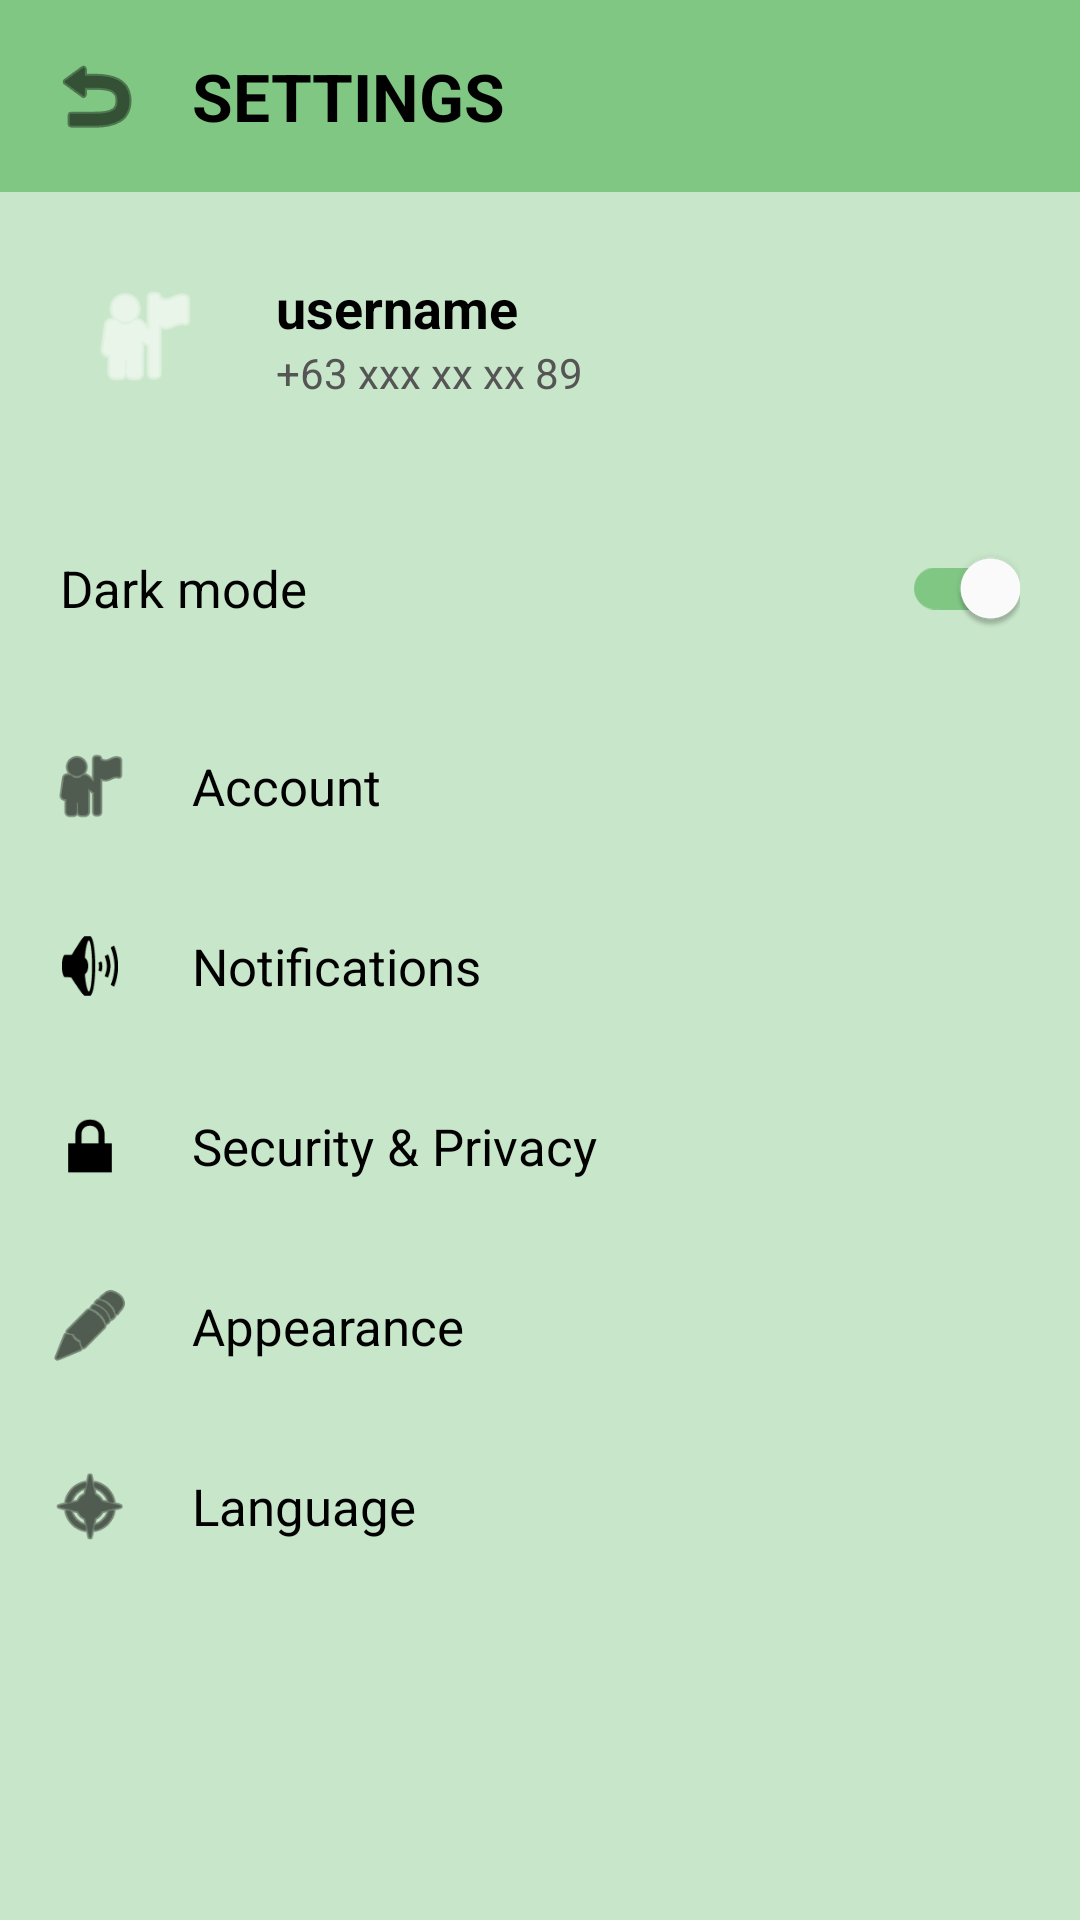

Where icons sit on this 1080 x 1920 app screen, as [x1,y1,x2,y2]:
Back: [63,65,132,128]
Security and Privacy: [68,1119,112,1173]
